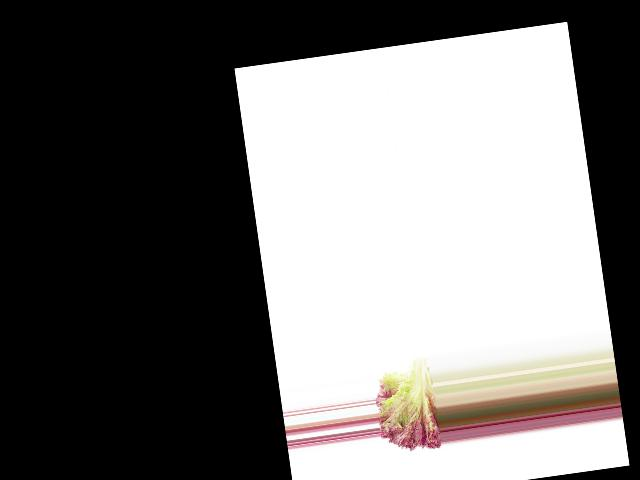lettuce: (371, 353, 443, 461)
